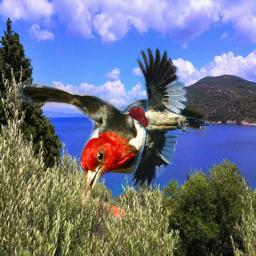Woodpecker: (8, 74, 209, 212), (120, 47, 211, 188)
